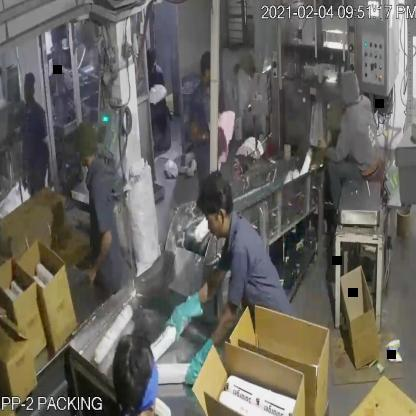glove: (163, 285, 207, 346), (182, 338, 222, 393)
no_glove: (76, 224, 119, 286), (186, 114, 217, 152)
